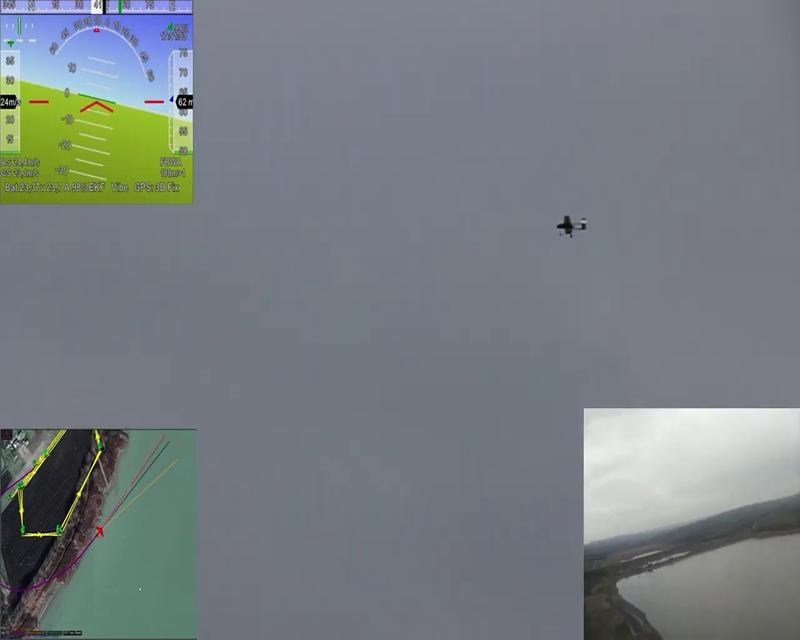UAV: (557, 212, 587, 238)
